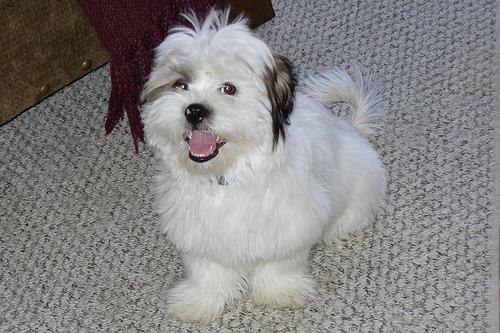dog: (141, 27, 292, 172)
